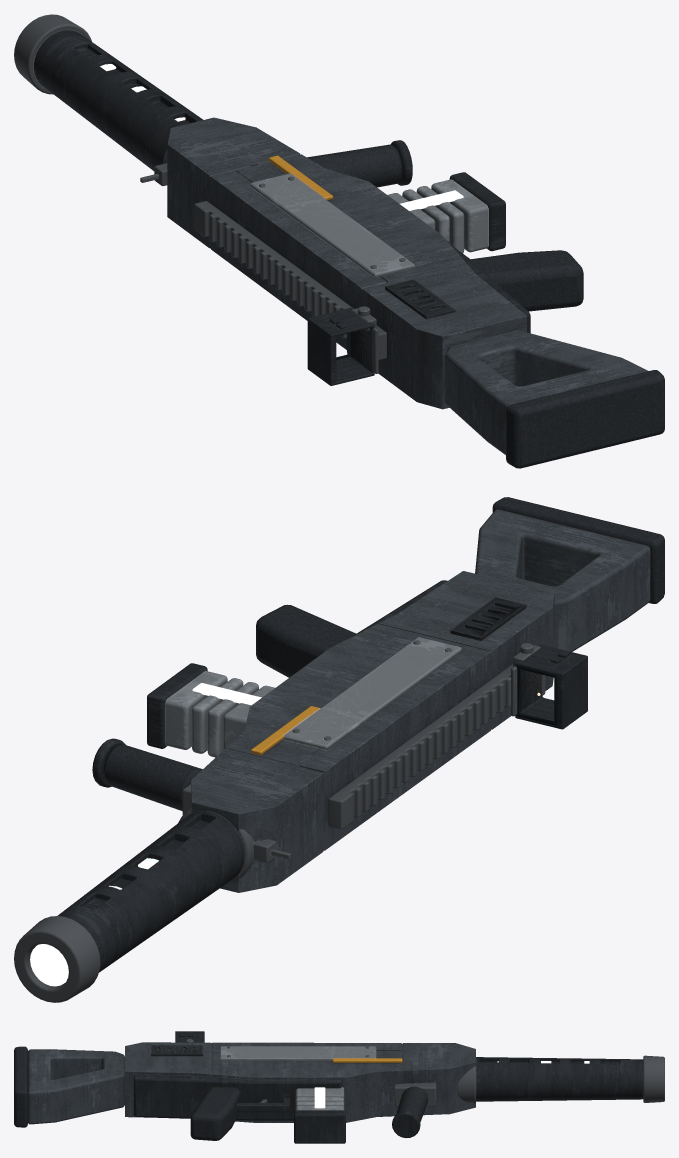
File: pc7_world.glb
3 renders of one model, top to bottom at view 1: azimuth 30°, elevation 25°; view 2: azimuth 150°, elevation 25°; view 3: azimuth 270°, elevation 25°, orthographic. The views are drawn at different scales.
Parts seen in each view (by area): view 1: pc7_world; view 2: pc7_world; view 3: pc7_world.
Part boxes in pixels (x1,y1,x2,y2): pc7_world: (14, 14, 664, 468); pc7_world: (14, 497, 664, 1002); pc7_world: (14, 1031, 664, 1143).
Bounding box in the file's own units: 0.2264 × 0.067 × 0.751.
Materials: 6 (2 with a texture image).
